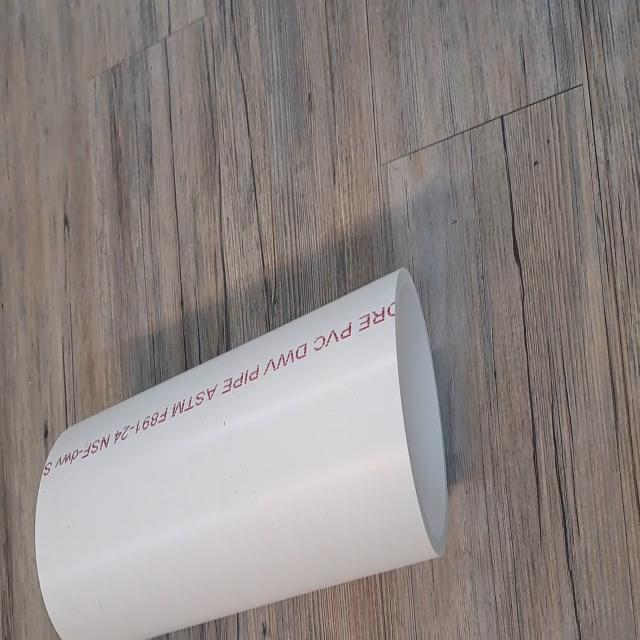CORAL: (29, 261, 458, 640)
